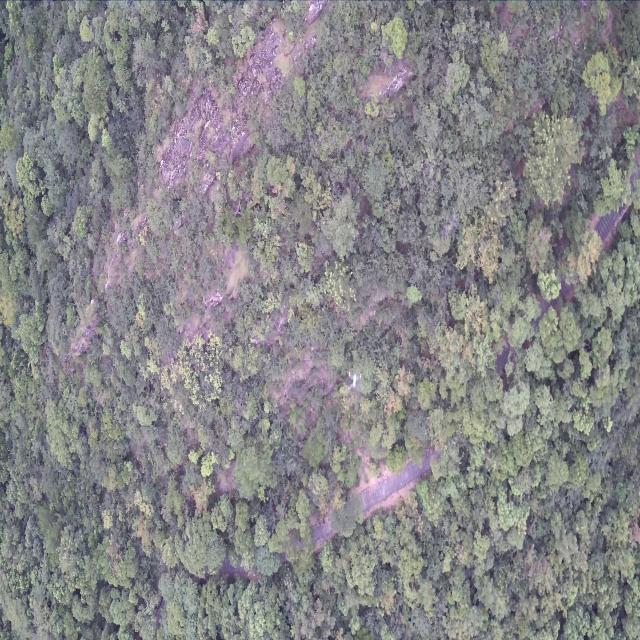drone: (348, 371, 362, 392)
